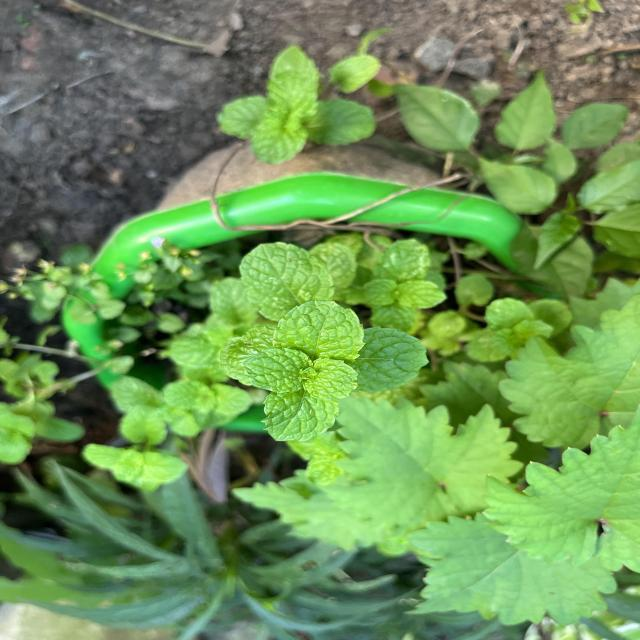Mentha spicata: (238, 240, 336, 322), (272, 298, 368, 364), (352, 325, 429, 395), (260, 392, 340, 442)
